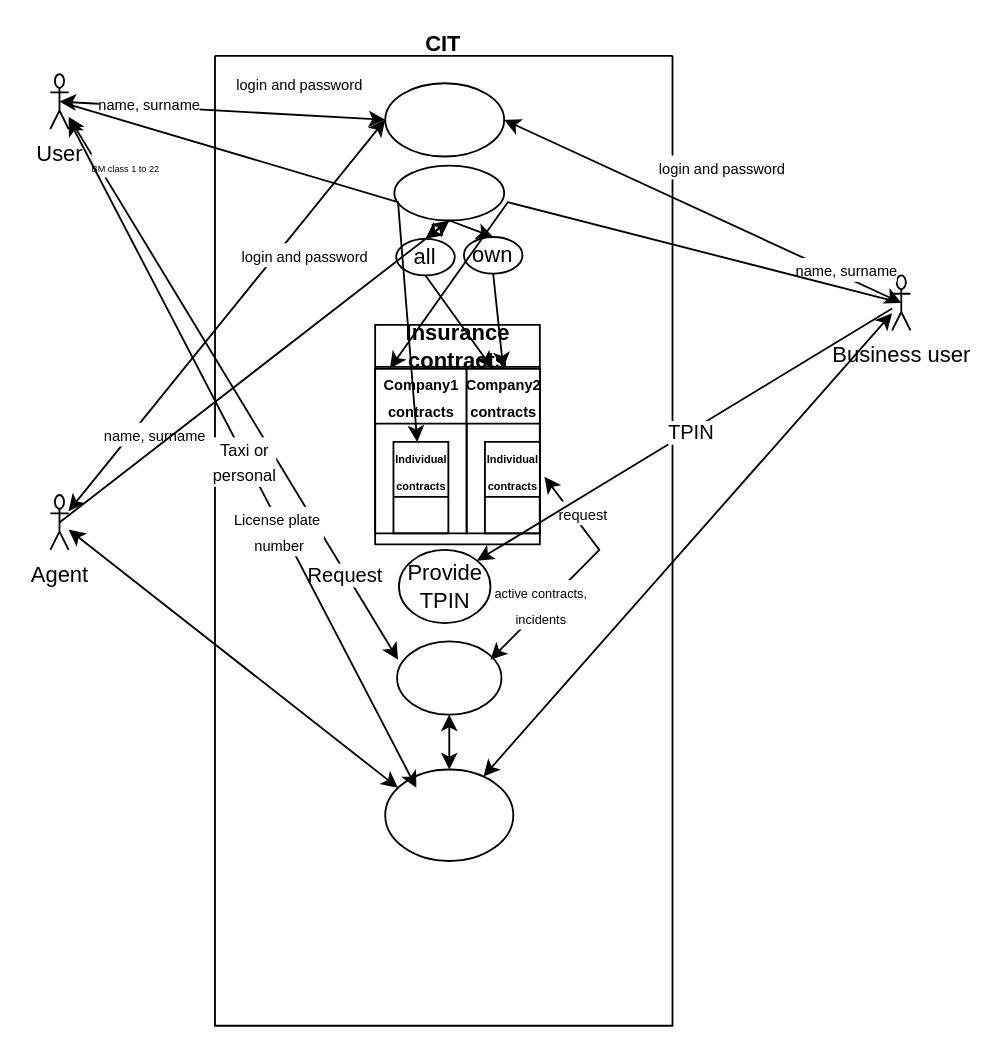
Some shapes in this 1001 by 1058 pixel diagram are drawn without their labels. The centre of each missing label's shape, as x and y in pixels:
"Contract sign" goes at pixel 448 814.
"Get BM" goes at pixel 448 677.
"register" goes at pixel 443 118.
"view contracts" goes at pixel 448 192.
